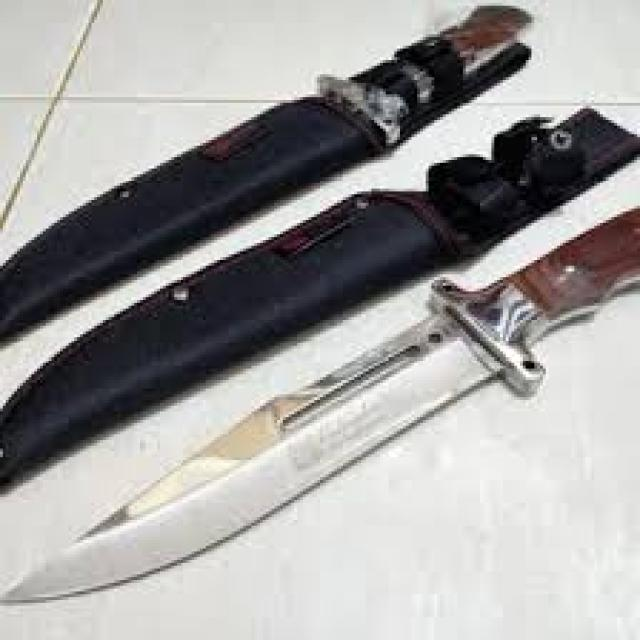Knife: (3, 154, 640, 602)
